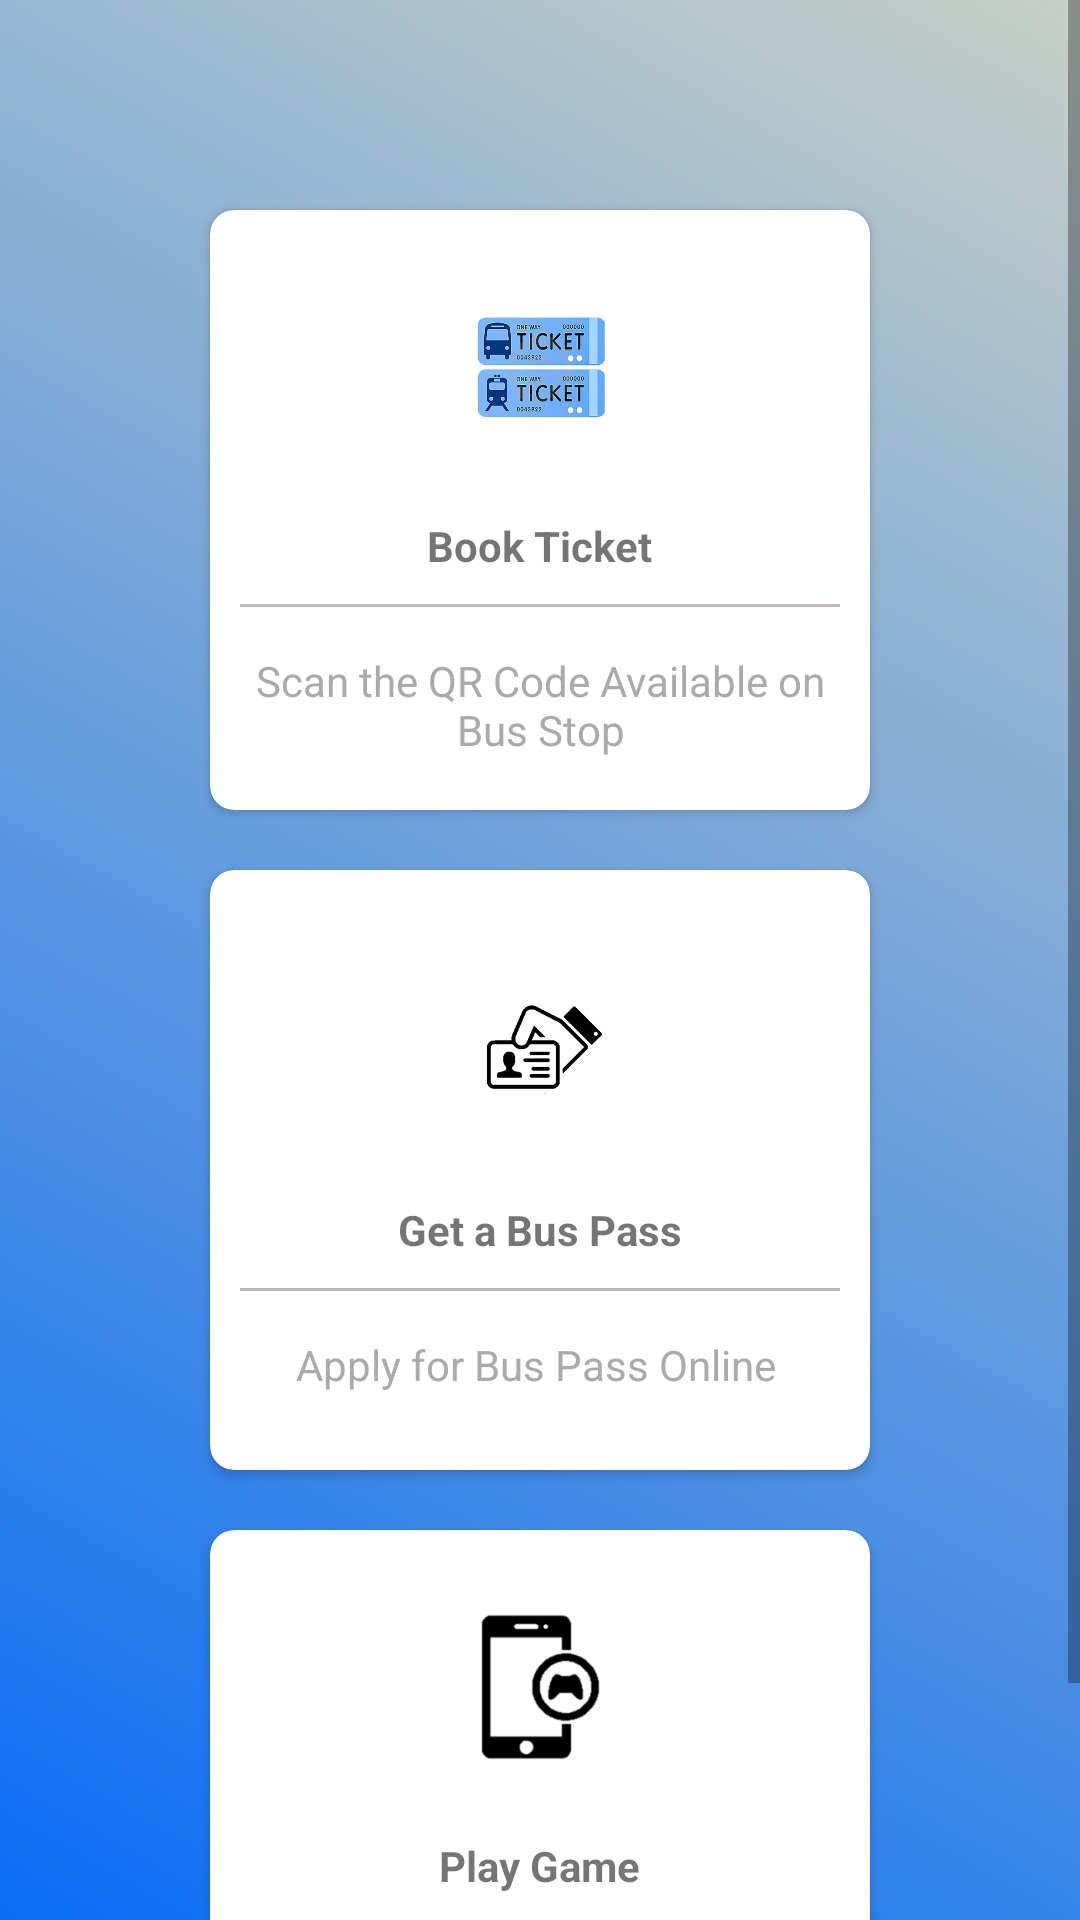

Icons on this 1080x1920 Android screen, each with its box as (x1, y1, x2, y2):
mob game: (481, 1615, 600, 1759)
